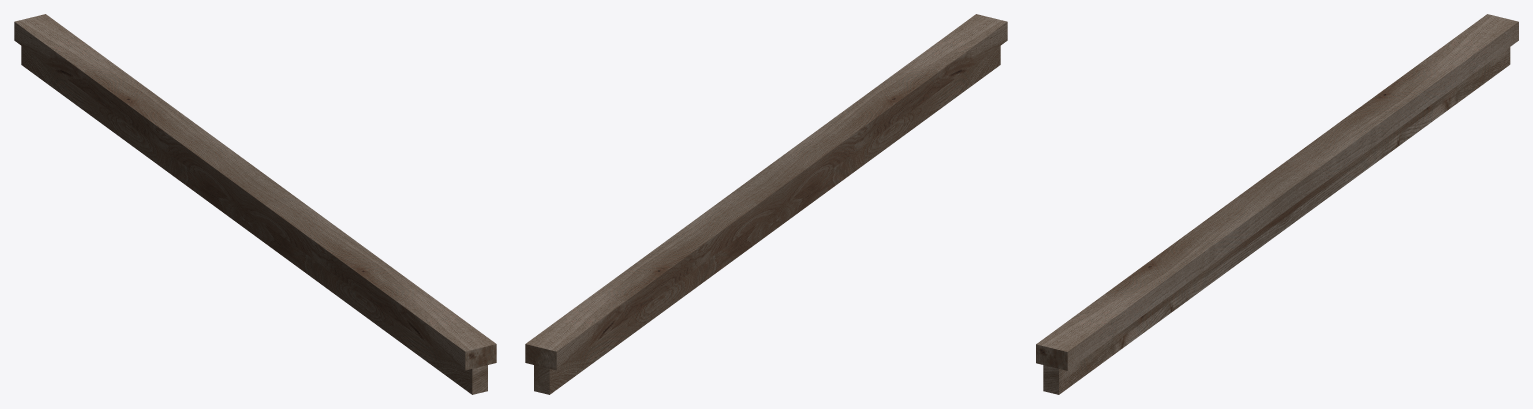
File: SM_Sun_Dae_Bang_B.fbx
3 views of the same model, side by side, from view 1: azimuth 30°, elevation 25°; view 2: azimuth 150°, elevation 25°; view 3: azimuth 330°, elevation 25° (orthographic).
Parts seen in each view (by area): view 1: SM_Sun_Dae_Bang_B; view 2: SM_Sun_Dae_Bang_B; view 3: SM_Sun_Dae_Bang_B.
Part boxes in pixels (<box>): SM_Sun_Dae_Bang_B: <box>14,14,496,394</box>; SM_Sun_Dae_Bang_B: <box>525,14,1007,394</box>; SM_Sun_Dae_Bang_B: <box>1036,14,1518,394</box>.
Size of the model in its own units: 44.72 by 61.11 by 1110.
